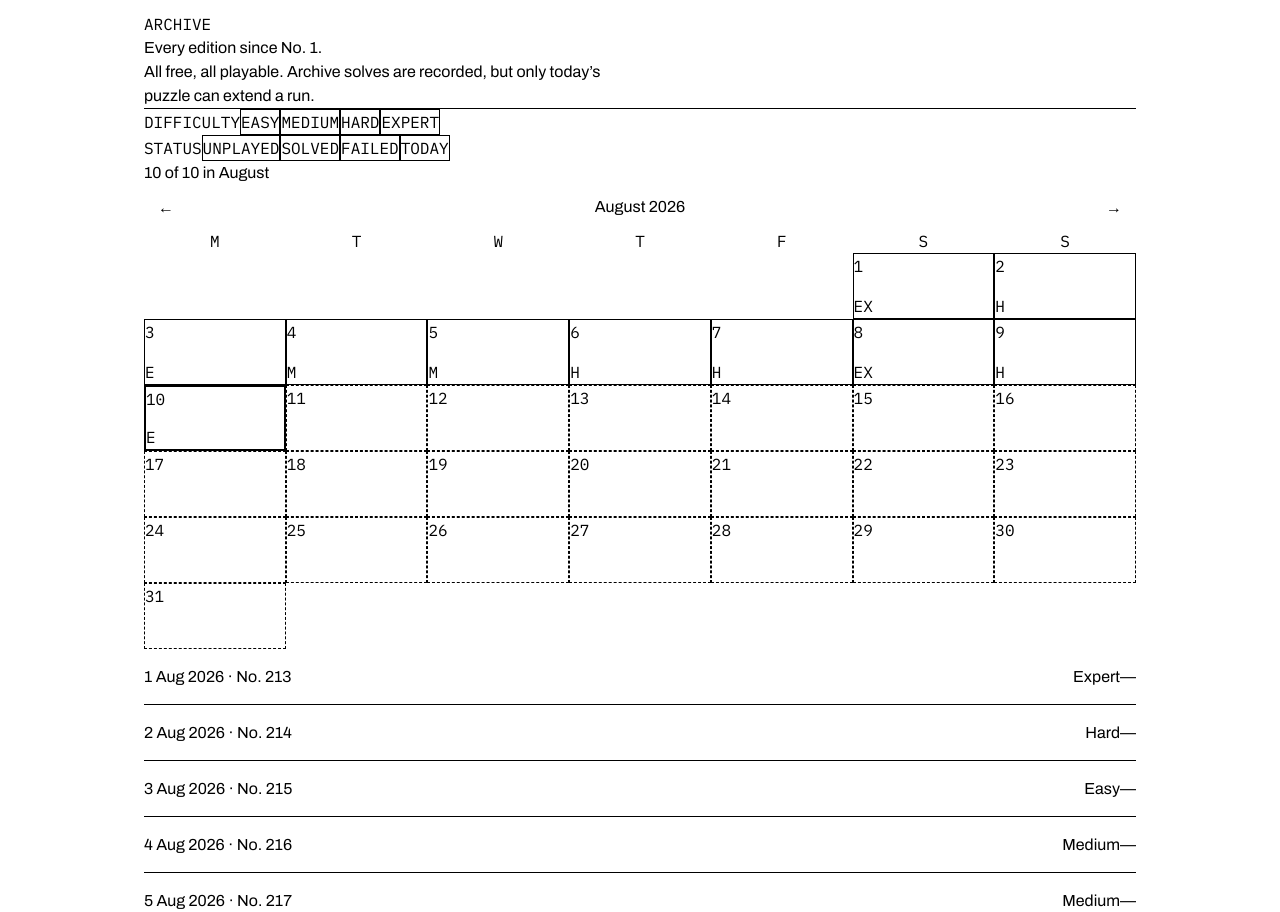
Test: ArchiveScreen › says so when nothing matches
Click the button "Solved".
click(310, 148)  # box 280,135 -> 340,161
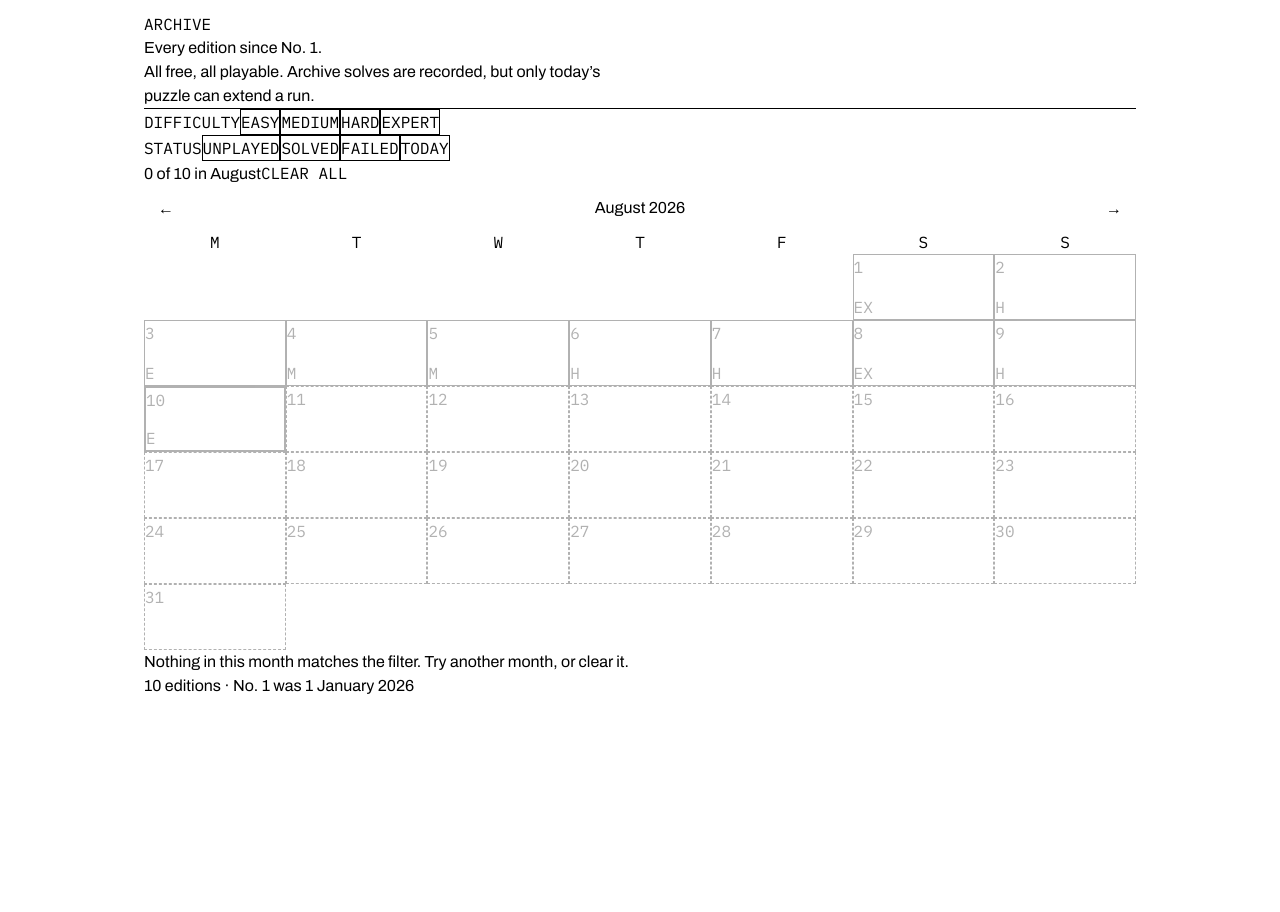
Check: the list item "Nothing in this month matches the filter" is shown, box 144,653 -> 629,670
